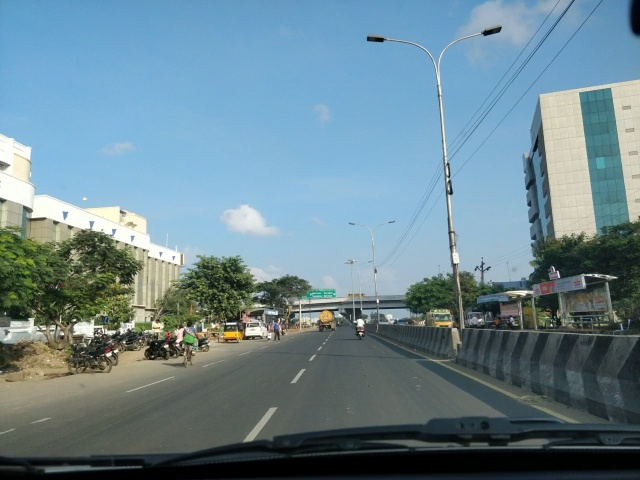auto: (223, 321, 242, 343)
car: (388, 314, 418, 334), (247, 321, 263, 338), (468, 310, 483, 328), (393, 320, 414, 327)
motorbike: (68, 344, 109, 374), (182, 320, 197, 369), (353, 317, 369, 338), (195, 333, 211, 349)
motorbikes: (90, 330, 120, 360), (148, 336, 176, 362), (117, 326, 139, 348)
person: (505, 313, 518, 329), (275, 319, 284, 338), (266, 315, 271, 342)
truck: (424, 309, 455, 326), (320, 309, 335, 331)
